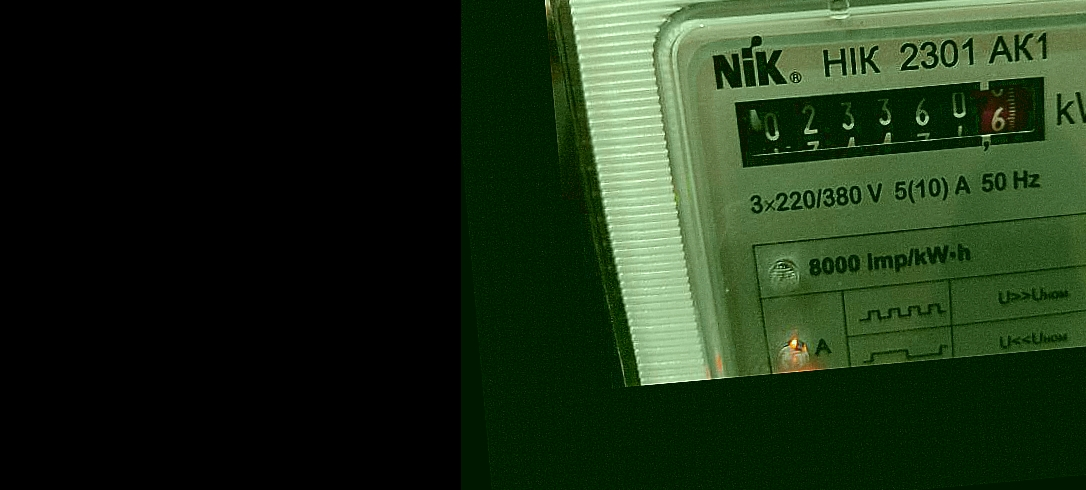0: (759, 107, 783, 142), (949, 87, 969, 119)
2: (797, 100, 823, 136)
3: (835, 97, 858, 131), (873, 93, 895, 126)
6: (910, 93, 932, 126), (986, 101, 1009, 132)
screen: (715, 56, 1064, 183)
